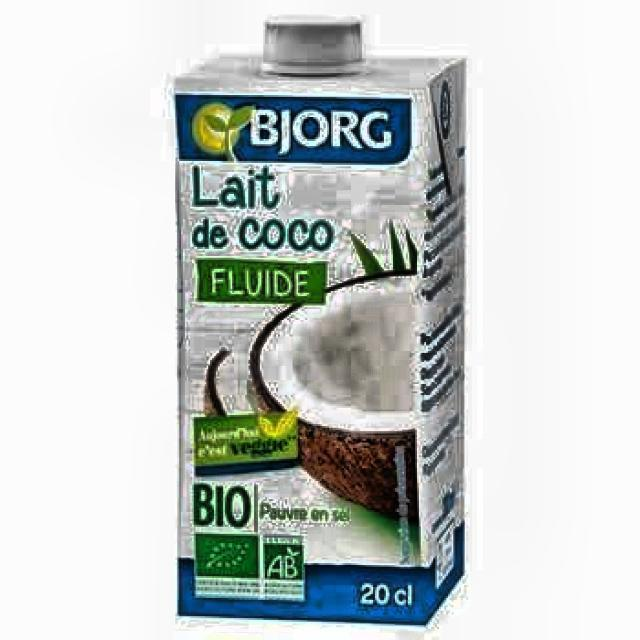cardboard: (172, 19, 466, 626)
